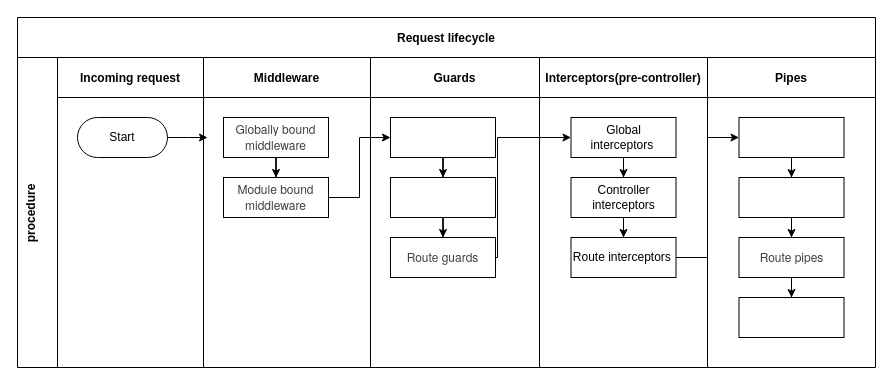
Some shapes in this 893 by 385 pixel diagram are drawn without their labels. The shapes that lost their labels are listed below. From the top down, each one's box as (x1, y1, x2, y2) in pixels, then its label:
(390, 116, 496, 158): Global guards
(738, 116, 844, 158): Global pipes
(390, 176, 496, 218): Controller guards
(738, 176, 844, 218): Controller pipes
(738, 296, 844, 338): Route parameter pipes
